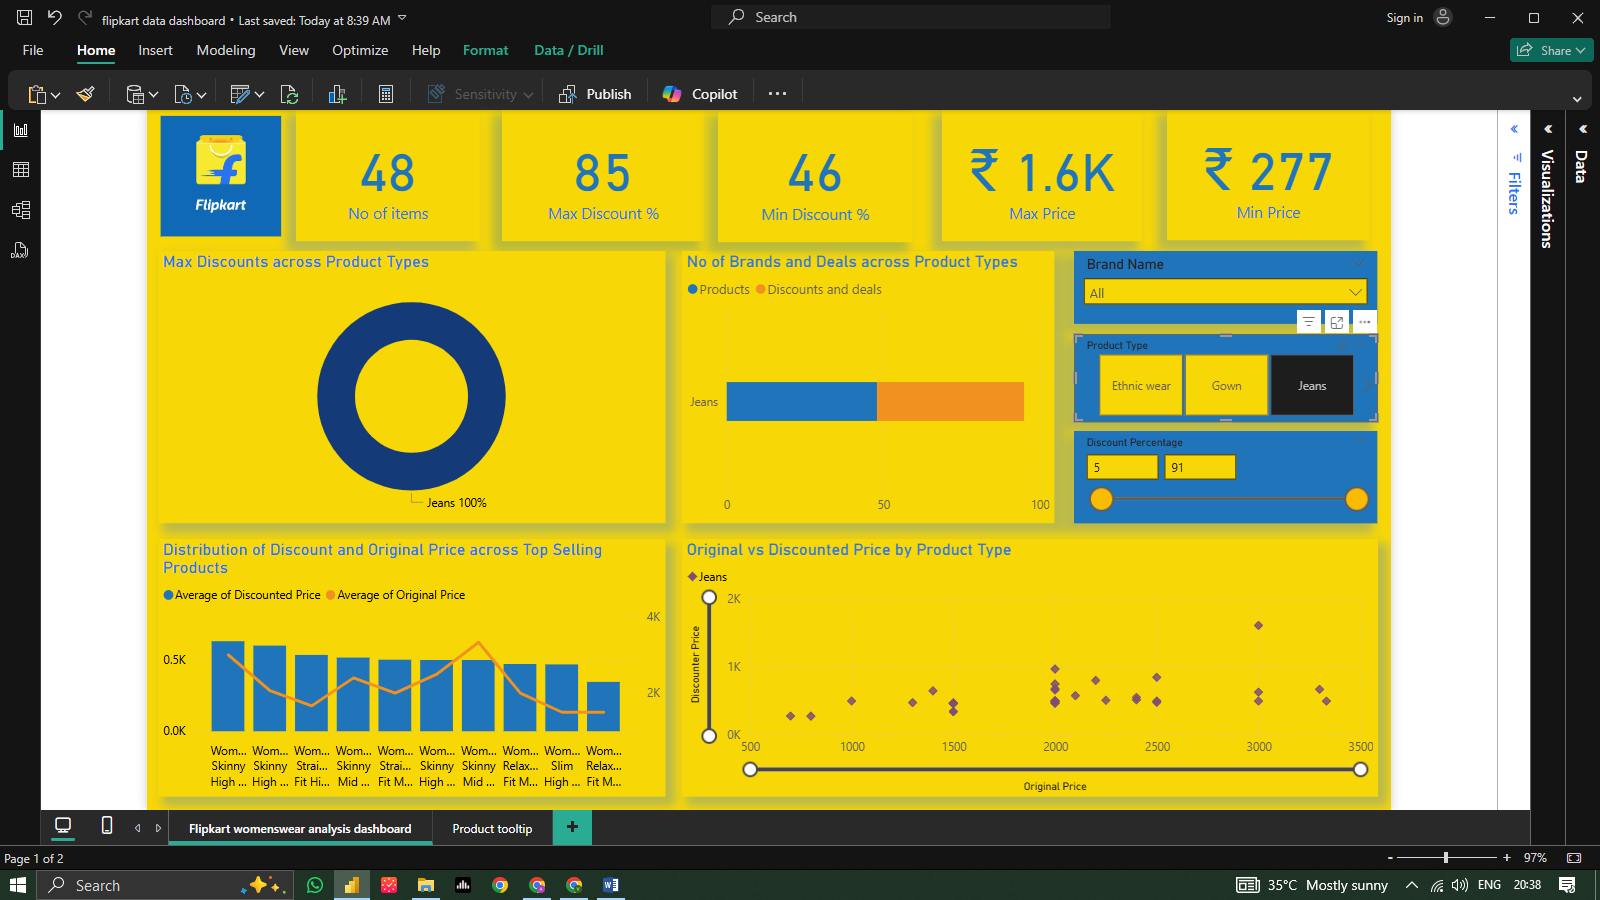

Layout of this report page (visuals, bound fields, positions):
{"tool":"powerbi","page":{"name":"Flipkart womenswear analysis dashboard","canvas":[1280,720],"ordinal":0},"visuals":[{"type":"card","fields":{"Values":["CountNonNull(Dresses.Brand Name)"]},"box":[152.9,0,188.9,134.9],"z":0},{"type":"card","fields":{"Values":["Dresses.Max Discount %"]},"box":[365,0,208.2,134.9],"z":1000},{"type":"card","fields":{"Values":["Dresses.Max Price"]},"box":[817.3,0,205.6,134.9],"z":2000},{"type":"card","fields":{"Values":["Dresses.Min Price"]},"box":[1048.7,0,208.2,133.7],"z":3000},{"type":"image","box":[0,1.3,152.9,133.7],"z":4000},{"type":"donutChart","title":"Max Discounts across Product Types","fields":{"Category":["Dresses.Product Type"],"Y":["Dresses.Max Discount %"]},"box":[11.6,145.2,521.8,280.2],"z":5000},{"type":"lineClusteredColumnComboChart","title":"Distribution of Discount and Original Price across Top Selling Products","fields":{"Category":["Dresses.Product Name"],"Y2":["Avg(Dresses.Original Price)"],"Y":["Avg(Dresses.Discounter Price)"]},"box":[11.6,440.8,521.8,264.7],"z":6000},{"type":"slicer","fields":{"Values":["Dresses.Brand Name"]},"box":[953.6,145.2,312.3,74.5],"z":7000},{"type":"slicer","fields":{"Values":["Dresses.Product Type"]},"box":[953.6,230,312.3,91.2],"z":8000},{"type":"slicer","fields":{"Values":["Dresses.Discount Percentage"]},"box":[953.6,330.3,312.3,95.1],"z":9000},{"type":"barChart","title":"No of Brands and Deals across Product Types","fields":{"Category":["Dresses.Product Type"],"Y":["CountNonNull(Dresses.Product Name)","CountNonNull(Dresses.Discounts and deals)"]},"box":[550,145.2,383,280.2],"z":10000},{"type":"card","fields":{"Values":["Min(Dresses.Discount Percentage)"]},"box":[587.3,1.3,200.5,134.9],"z":11000},{"type":"scatterChart","title":"Original vs Discounted Price by Product Type","fields":{"X":["Dresses.Original Price"],"Y":["Dresses.Discounter Price"],"Series":["Dresses.Product Type"]},"box":[550,440.8,715.8,264.7],"z":12000}]}

Visuals, with their boxes on the page's 1280x720 design canvas (x1, y1, x2, y2). These are canvas units, not pixel positions in the 1600x900 screenshot, which may show the page scaled, cropped or inside an application window:
card - CountNonNull(Dresses.Brand Name): left=153, top=0, right=342, bottom=135
card - Dresses.Max Discount %: left=365, top=0, right=573, bottom=135
card - Dresses.Max Price: left=817, top=0, right=1023, bottom=135
card - Dresses.Min Price: left=1049, top=0, right=1257, bottom=134
image: left=0, top=1, right=153, bottom=135
"Max Discounts across Product Types" donutChart: left=12, top=145, right=533, bottom=425
"Distribution of Discount and Original Price across Top Selling Products" lineClusteredColumnComboChart: left=12, top=441, right=533, bottom=706
slicer - Dresses.Brand Name: left=954, top=145, right=1266, bottom=220
slicer - Dresses.Product Type: left=954, top=230, right=1266, bottom=321
slicer - Dresses.Discount Percentage: left=954, top=330, right=1266, bottom=425
"No of Brands and Deals across Product Types" barChart: left=550, top=145, right=933, bottom=425
card - Min(Dresses.Discount Percentage): left=587, top=1, right=788, bottom=136
"Original vs Discounted Price by Product Type" scatterChart: left=550, top=441, right=1266, bottom=706
